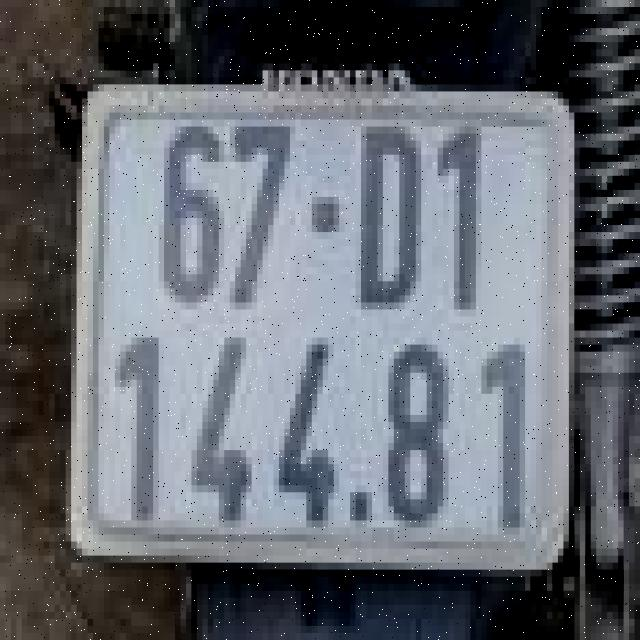1: (468, 327, 538, 545), (101, 330, 172, 528), (438, 120, 498, 323)
4: (186, 334, 263, 538), (271, 330, 342, 534)
6: (153, 112, 230, 302)
7: (227, 120, 304, 316)
8: (369, 313, 457, 552)
D: (356, 120, 426, 310)
